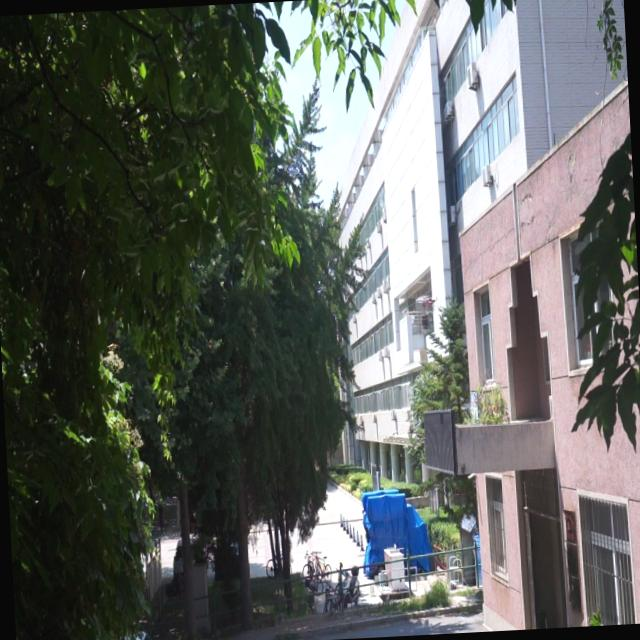drone: (414, 290, 441, 316)
